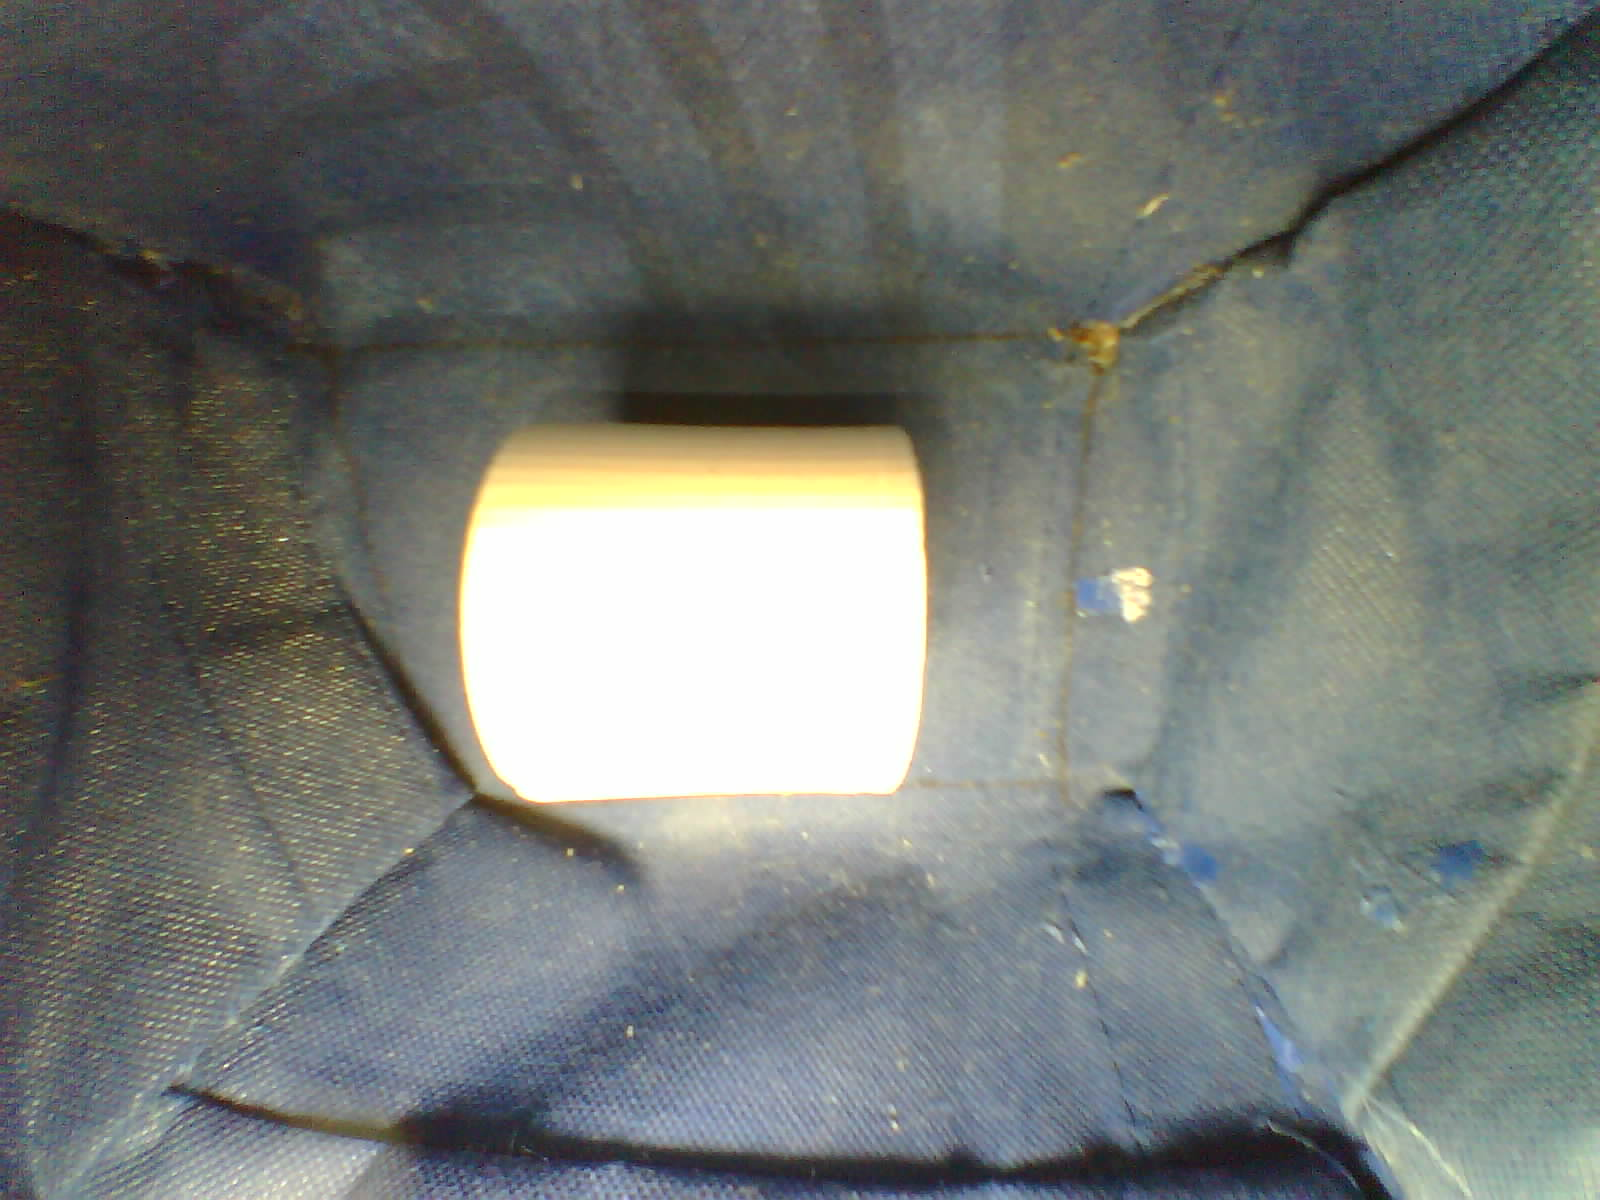cylinder-hard: (430, 402, 950, 832)
